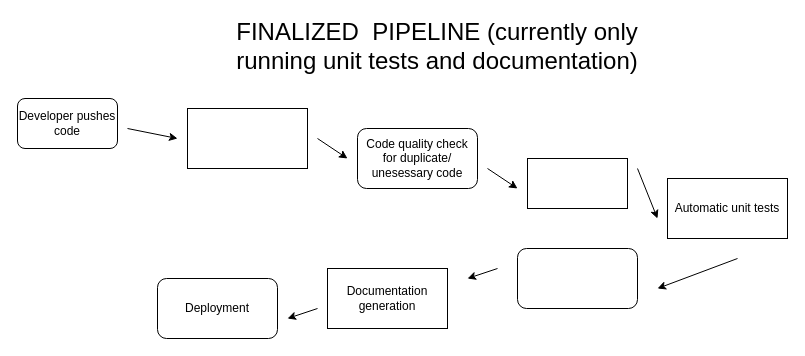
Image size: 805x356. Some labels were removed from this diagram. The centre of each missing label's shape, as x and y in pixels:
End to end testing: point 577,278
Lints code for stylistic and syntactic error: point 247,138
Manual pull request review: point 577,183
